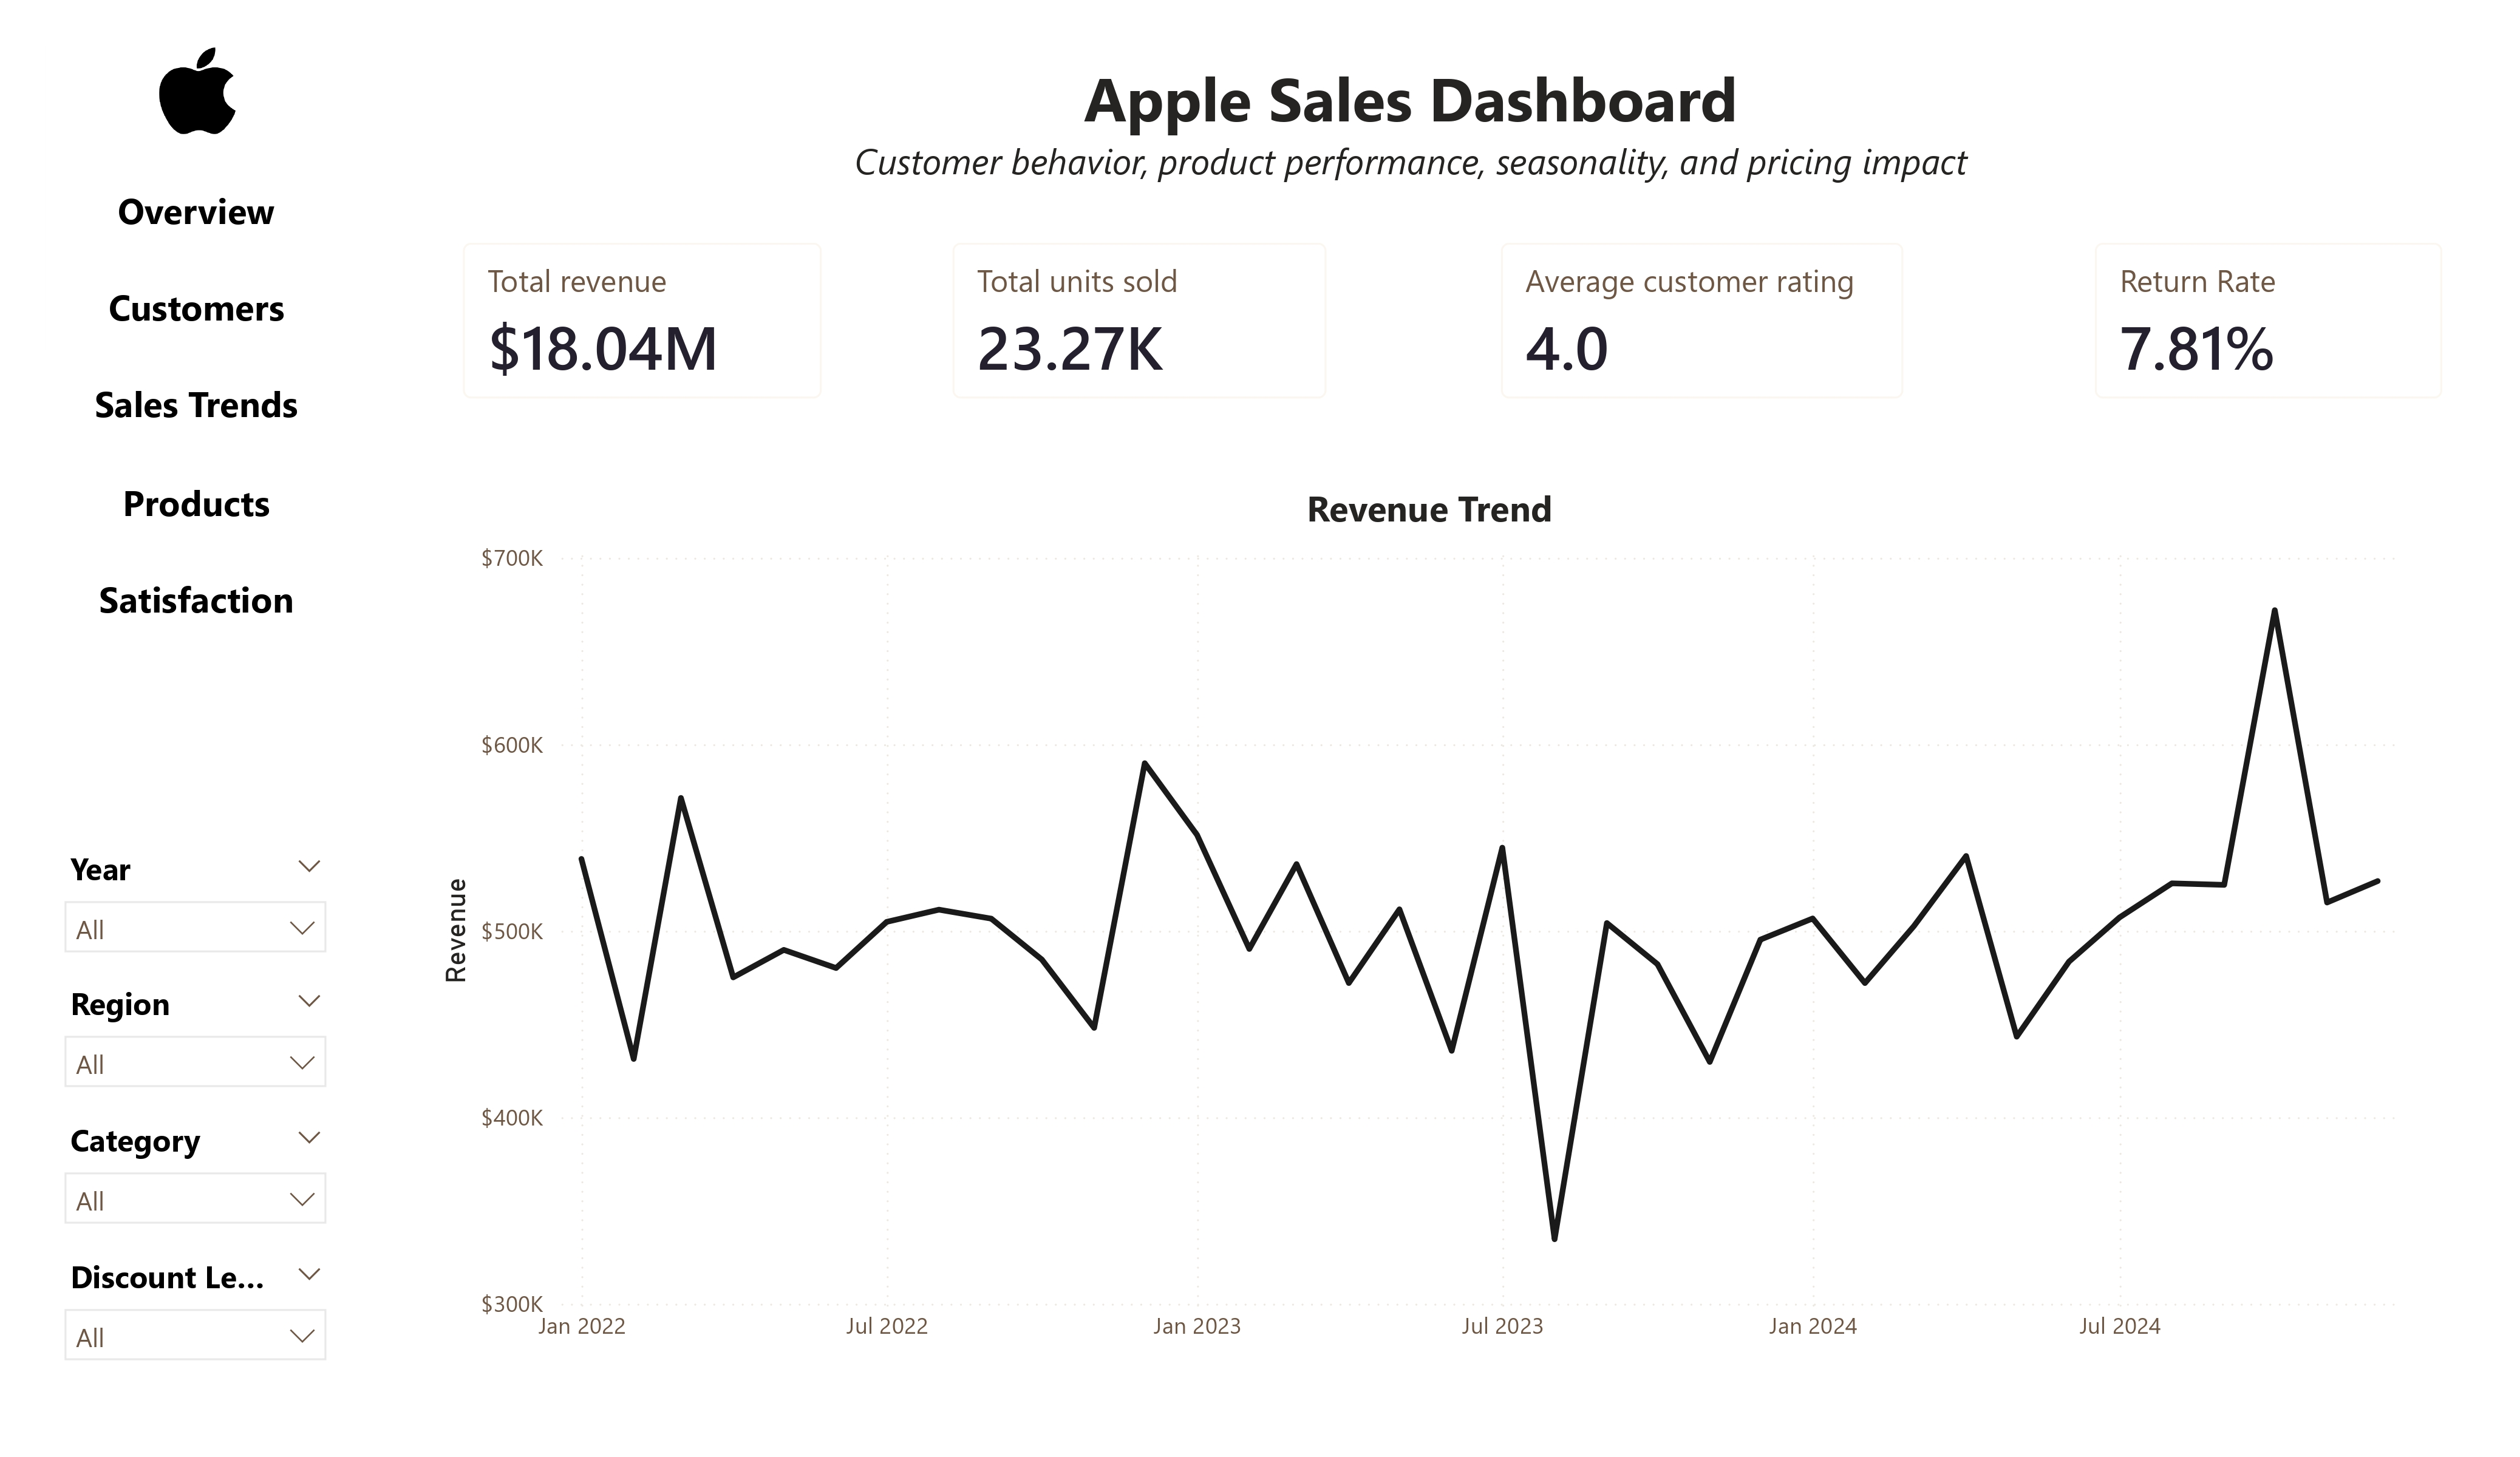

Layout of this report page (visuals, bound fields, positions):
{"tool":"powerbi","page":{"name":"Overview","canvas":[1280,720],"ordinal":0},"visuals":[{"type":"textbox","box":[158.9,0,1121.5,86.8],"z":0},{"type":"slicer","fields":{"Values":["public sales.year"]},"box":[0,417.9,158.5,70.8],"z":1000},{"type":"image","box":[40.6,0,77.8,51.8],"z":2000},{"type":"slicer","fields":{"Values":["public customers.region"]},"box":[0,488.7,158.5,72],"z":3000},{"type":"slicer","fields":{"Values":["public products.category"]},"box":[0,560.8,158.5,72],"z":4000},{"type":"slicer","fields":{"Values":["public sales.discount_level"]},"box":[0,632.8,158.5,72],"z":5000},{"type":"cardVisual","fields":{"Data":["Sum(public sales.revenue_usd)"]},"box":[202.9,86.8,223.2,116.1],"z":6000},{"type":"cardVisual","fields":{"Data":["Sum(public sales.units_sold)"]},"box":[461,86.8,231.1,116.1],"z":7000},{"type":"cardVisual","fields":{"Data":["Avg(public sales.customer_rating)"]},"box":[749.5,86.8,246.8,116.1],"z":8000},{"type":"cardVisual","fields":{"Data":["Sales.Return Rate"]},"box":[1062.9,86.8,217.5,116.1],"z":9000},{"type":"lineChart","title":"Revenue Trend","fields":{"Y":["Sum(Sales.revenue_usd)"],"Category":["Sales.sale_date.Variation.Date Hierarchy.Year","Sales.sale_date.Variation.Date Hierarchy.Month"]},"box":[202.9,231.1,1052.7,462.1],"z":10000},{"type":"actionButton","box":[0,60.9,158.9,51.8],"z":11000},{"type":"actionButton","box":[0,112.7,158.9,50.7],"z":12000},{"type":"actionButton","box":[0,163.4,158.9,51.8],"z":13000},{"type":"actionButton","box":[0,215.3,158.9,50.7],"z":14000},{"type":"actionButton","box":[0,266,158.9,51.8],"z":15000}]}

Visuals, with their boxes on the page's 1280x720 design canvas (x1, y1, x2, y2). These are canvas units, not pixel positions in the 2520x1457 screenshot, which may show the page scaled, cropped or inside an application window:
textbox: BBox(159, 0, 1280, 87)
slicer - public sales.year: BBox(0, 418, 158, 489)
image: BBox(41, 0, 118, 52)
slicer - public customers.region: BBox(0, 489, 158, 561)
slicer - public products.category: BBox(0, 561, 158, 633)
slicer - public sales.discount_level: BBox(0, 633, 158, 705)
cardVisual - Sum(public sales.revenue_usd): BBox(203, 87, 426, 203)
cardVisual - Sum(public sales.units_sold): BBox(461, 87, 692, 203)
cardVisual - Avg(public sales.customer_rating): BBox(750, 87, 996, 203)
cardVisual - Sales.Return Rate: BBox(1063, 87, 1280, 203)
"Revenue Trend" lineChart: BBox(203, 231, 1256, 693)
actionButton: BBox(0, 61, 159, 113)
actionButton: BBox(0, 113, 159, 163)
actionButton: BBox(0, 163, 159, 215)
actionButton: BBox(0, 215, 159, 266)
actionButton: BBox(0, 266, 159, 318)
